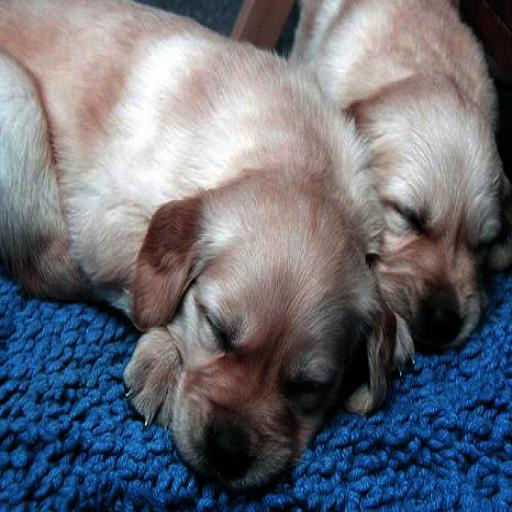dog_face: (123, 158, 377, 479), (359, 82, 512, 336)
